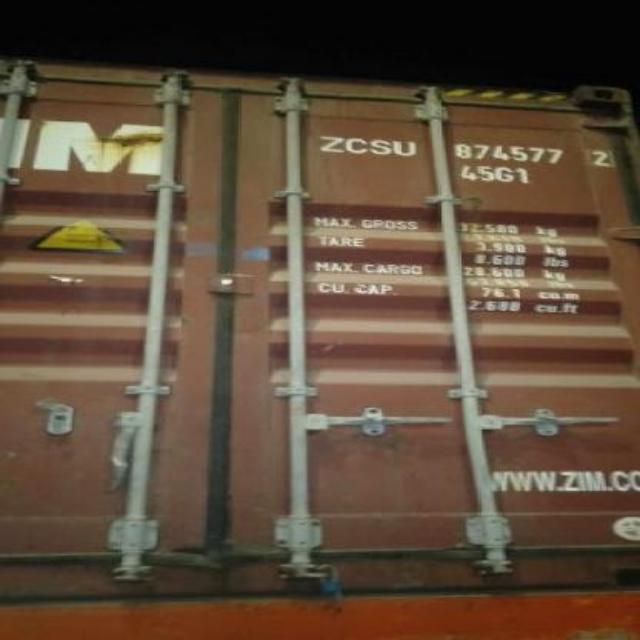2: (588, 146, 620, 168)
4: (494, 138, 510, 164)
5: (508, 136, 526, 166)
7: (544, 138, 564, 170), (526, 142, 546, 164), (472, 140, 490, 162)
8: (451, 136, 472, 162)
C: (347, 127, 368, 159)
S: (370, 130, 394, 156)
U: (392, 132, 426, 160)
Z: (318, 128, 344, 156)
